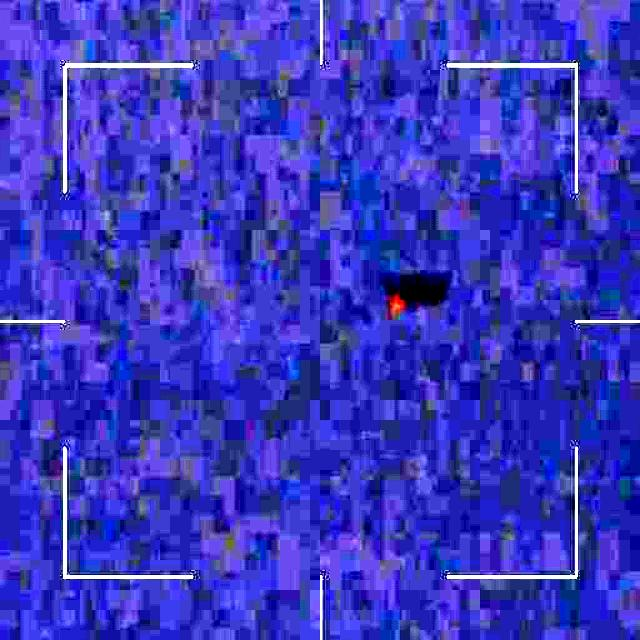bird: (380, 286, 409, 320)
